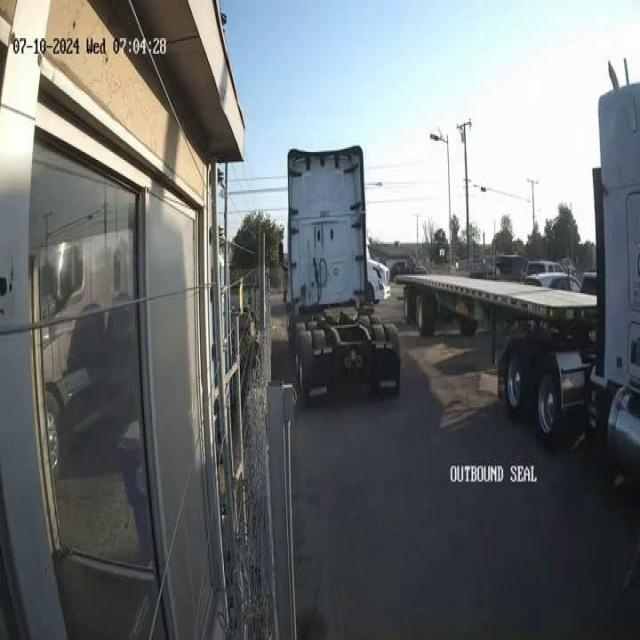BOBTAIL: (403, 58, 638, 464), (277, 143, 401, 411)
